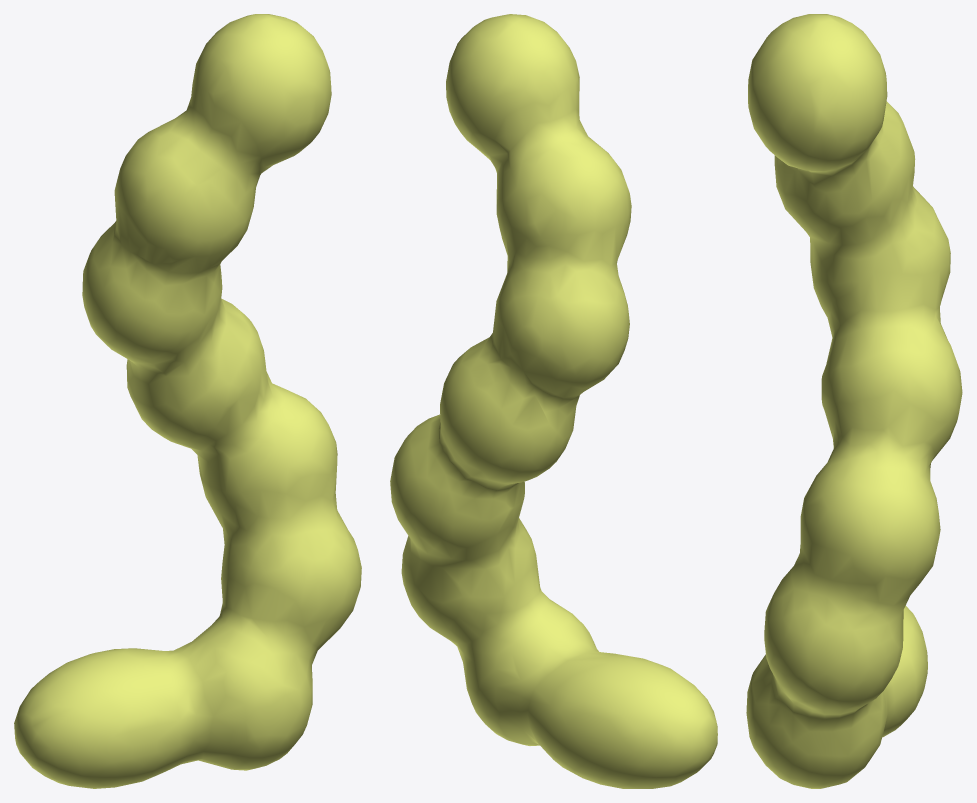
File: lemon-chain.glb
3 views of the same model, side by side, from view 1: azimuth 30°, elevation 25°; view 2: azimuth 150°, elevation 25°; view 3: azimuth 270°, elevation 25° (orthographic). The views are drawn at different scales.
Parts seen in each view (by area): view 1: lemon-chain; view 2: lemon-chain; view 3: lemon-chain.
Part boxes in pixels (bbox=[...]): lemon-chain: bbox=[14, 14, 361, 788]; lemon-chain: bbox=[390, 14, 717, 788]; lemon-chain: bbox=[746, 14, 962, 788].
Size of the model in its own units: 0.8992 by 2 by 0.5045.
